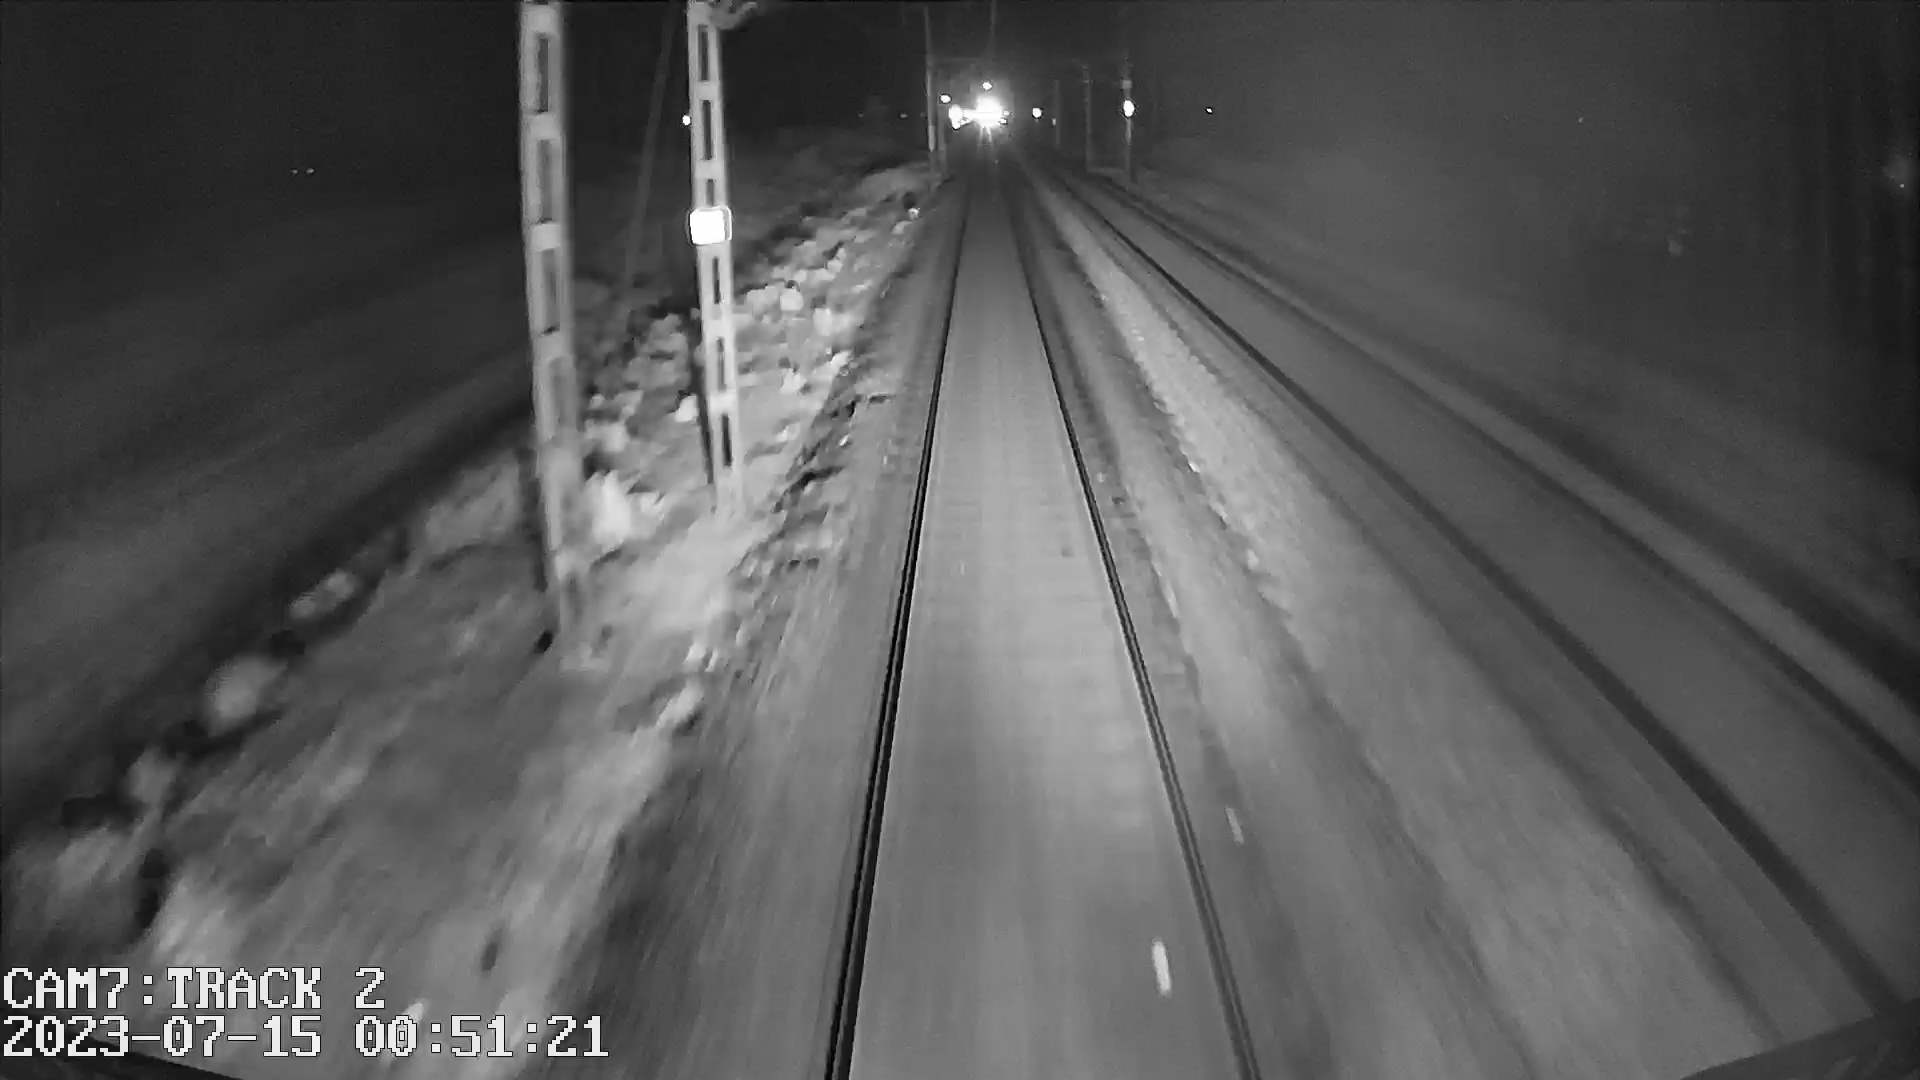track1: (840, 203, 1249, 1064)
track2: (1080, 190, 1905, 898)
